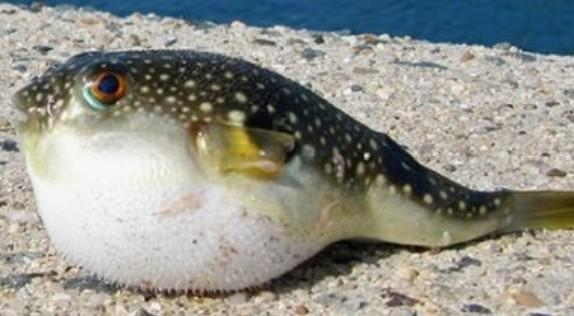fish: (13, 49, 573, 290)
